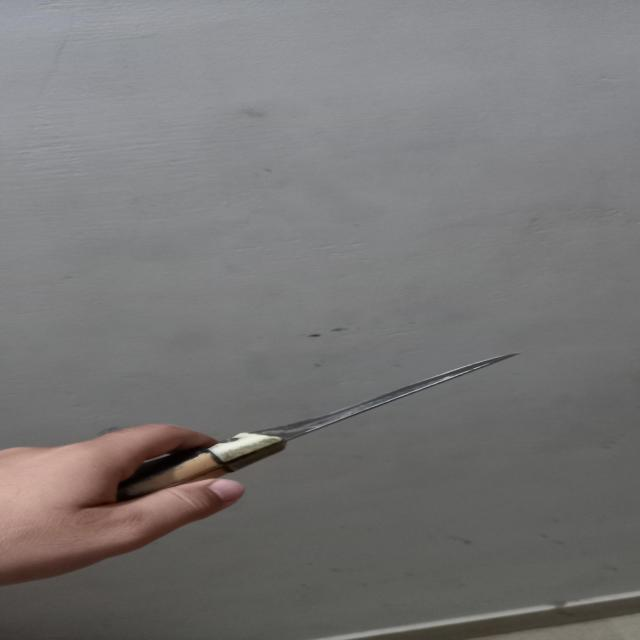Knife: (124, 350, 534, 496)
